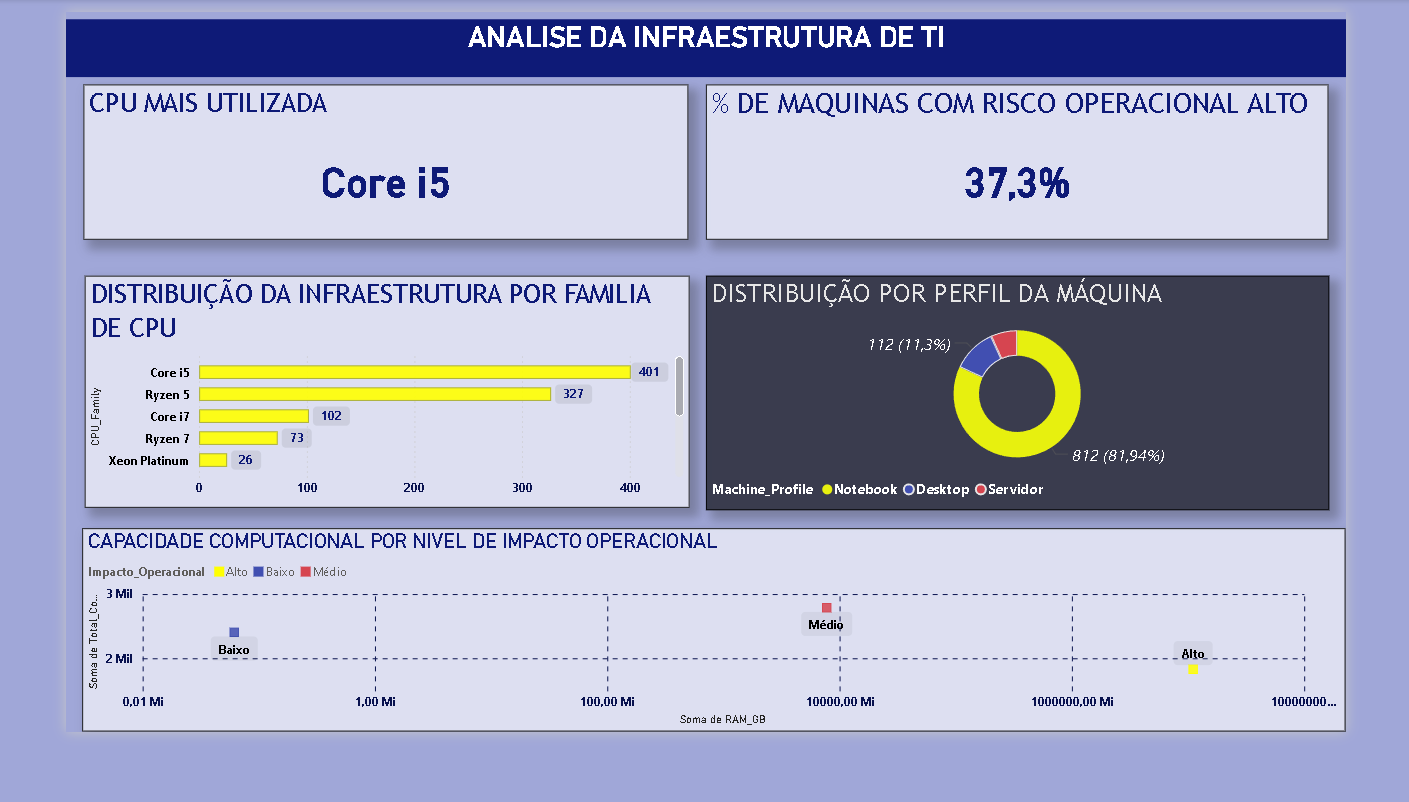

The dashboard page shown, as its layout file describes it:
{"tool":"powerbi","page":{"name":"Página 1","canvas":[1280,720],"ordinal":0},"visuals":[{"type":"card","title":"CPU MAIS UTILIZADA ","fields":{"Values":["inventario_tratado csv.CPU Mais Utilizada"]},"box":[17.5,72.5,605,155],"z":0},{"type":"card","title":"% DE MAQUINAS COM RISCO OPERACIONAL ALTO","fields":{"Values":["inventario_tratado csv.% Alto Impacto"]},"box":[640,72.5,622.5,155],"z":1000},{"type":"clusteredBarChart","title":"DISTRIBUIÇÃO DA INFRAESTRUTURA POR FAMILIA DE CPU ","fields":{"Category":["inventario_tratado csv.CPU_Family"],"Y":["CountNonNull(inventario_tratado csv.CPU_Family)"]},"box":[18.3,263.3,605,231.7],"z":2000},{"type":"donutChart","title":"DISTRIBUIÇÃO POR PERFIL DA MÁQUINA ","fields":{"Category":["inventario_tratado csv.Machine_Profile"],"Y":["CountNonNull(inventario_tratado csv.Machine_Profile)"]},"box":[640,263.2,623.1,234.3],"z":3000},{"type":"scatterChart","title":"CAPACIDADE COMPUTACIONAL POR NIVEL DE IMPACTO OPERACIONAL ","fields":{"X":["Sum(inventario_tratado csv.RAM_GB)"],"Y":["Sum(inventario_tratado csv.Total_Cores)"],"Series":["inventario_tratado csv.Impacto_Operacional"]},"box":[16.7,516.7,1263.3,203.3],"z":4000},{"type":"shape","title":"ANALISE DA INFRAESTRUTURA DE TI","box":[0,8,1280.4,57.3],"z":5000}]}

Visuals, with their boxes in screenshot pixels (x1, y1, x2, y2), scaled from the page's 1280x720 canvas onto the 1409x802 screenshot:
"CPU MAIS UTILIZADA " card: <region>19, 81, 685, 253</region>
"% DE MAQUINAS COM RISCO OPERACIONAL ALTO" card: <region>704, 81, 1390, 253</region>
"DISTRIBUIÇÃO DA INFRAESTRUTURA POR FAMILIA DE CPU " clusteredBarChart: <region>20, 293, 686, 551</region>
"DISTRIBUIÇÃO POR PERFIL DA MÁQUINA " donutChart: <region>704, 293, 1390, 554</region>
"CAPACIDADE COMPUTACIONAL POR NIVEL DE IMPACTO OPERACIONAL " scatterChart: <region>18, 576, 1408, 801</region>
"ANALISE DA INFRAESTRUTURA DE TI" shape: <region>0, 9, 1408, 73</region>
